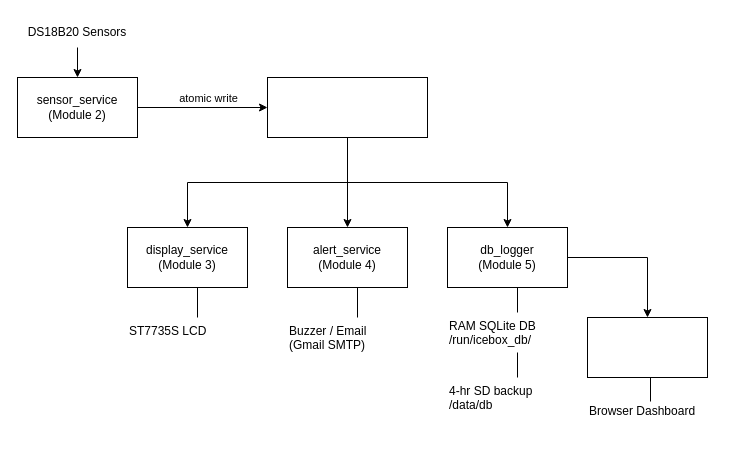
Image size: 745x454. Some labels were removed from this diagram. The shapes that lost their labels are listed below. From the top down, each one's box as (x1, y1, x2, y2) in pixels, then its label:
(266, 76, 428, 138): /run/telemetry_state.json
(586, 316, 708, 378): web_server (Module 6) Flask :8080
